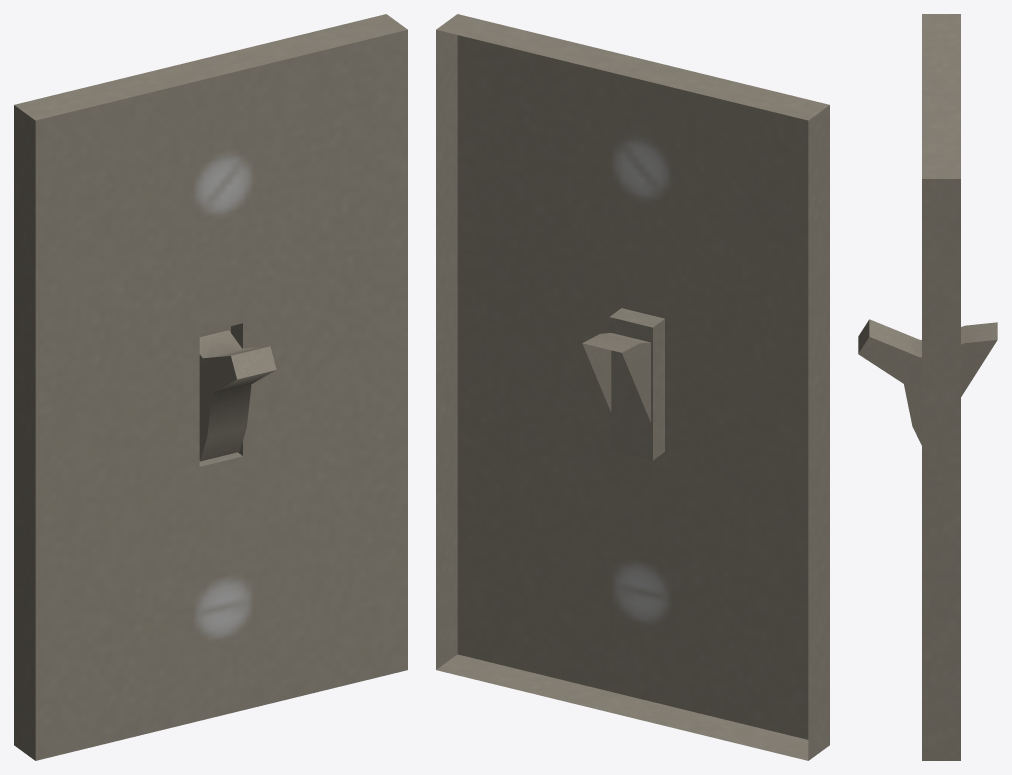
The model's file is LightSwitch.fbx.
The picture shows the model from 3 angles, left to right: view 1: azimuth 30°, elevation 25°; view 2: azimuth 150°, elevation 25°; view 3: azimuth 270°, elevation 25°; orthographic projection. The views are drawn at different scales.
Parts seen in each view (by area): view 1: LightSwitch, Switch; view 2: LightSwitch, Switch; view 3: LightSwitch, Switch.
Part boxes in pixels (x1,y1,x2,y2): LightSwitch: [14, 14, 407, 760]; Switch: [199, 330, 276, 461]; LightSwitch: [436, 14, 829, 760]; Switch: [582, 333, 650, 422]; LightSwitch: [922, 14, 960, 760]; Switch: [858, 319, 997, 445].
Bounding box in the file's own units: 7 × 11.5 × 2.5.
